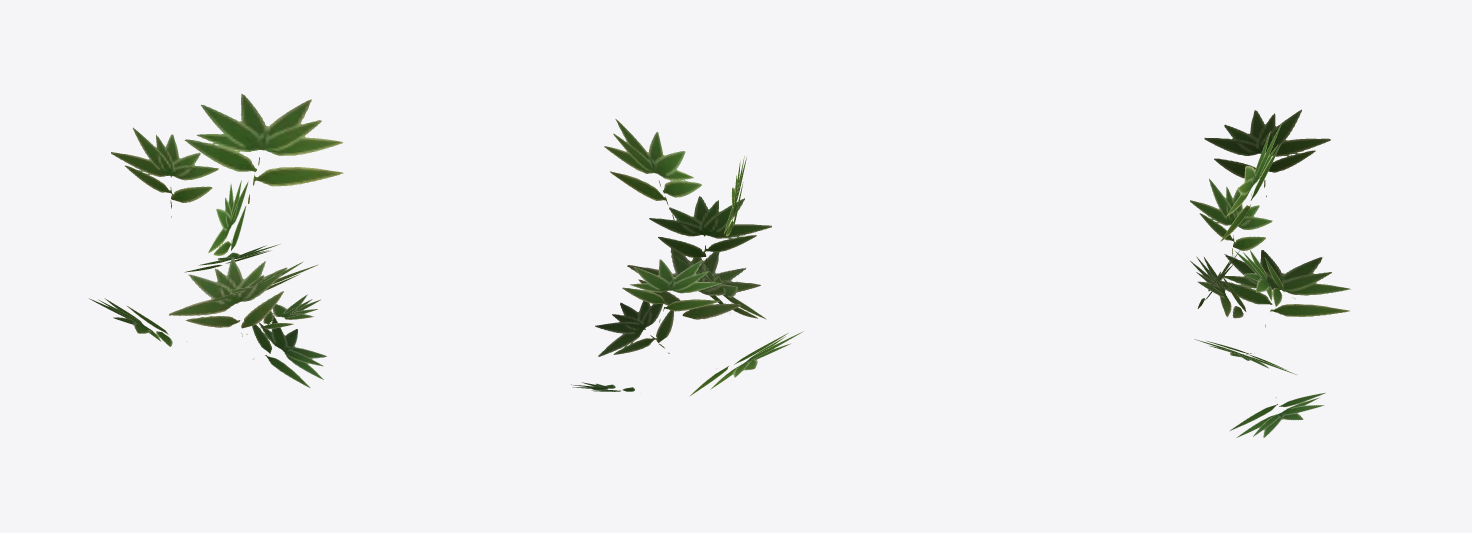
The model's file is sasa.lite.glb.
3 views of the same model, side by side, from view 1: azimuth 30°, elevation 25°; view 2: azimuth 150°, elevation 25°; view 3: azimuth 270°, elevation 25° (orthographic). The views are drawn at different scales.
Visible parts, largest first — view 1: v0_lod1, v1_lod1, v2_lod1; view 2: v0_lod1, v2_lod1, v1_lod1; view 3: v0_lod1, v1_lod1, v2_lod1.
Boxes of the visible parts, x1,y1,x2,y2 form: v0_lod1: (89,94,343,346); v1_lod1: (111,127,320,334); v2_lod1: (184,244,326,387); v0_lod1: (604,119,803,396); v2_lod1: (571,248,760,391); v1_lod1: (595,156,746,356); v0_lod1: (1190,122,1350,327); v1_lod1: (1194,109,1330,375); v2_lod1: (1190,250,1325,437).
Bounding box in the file's own units: 1.7 × 1.38 × 1.58.
1 material, 1 textured.
